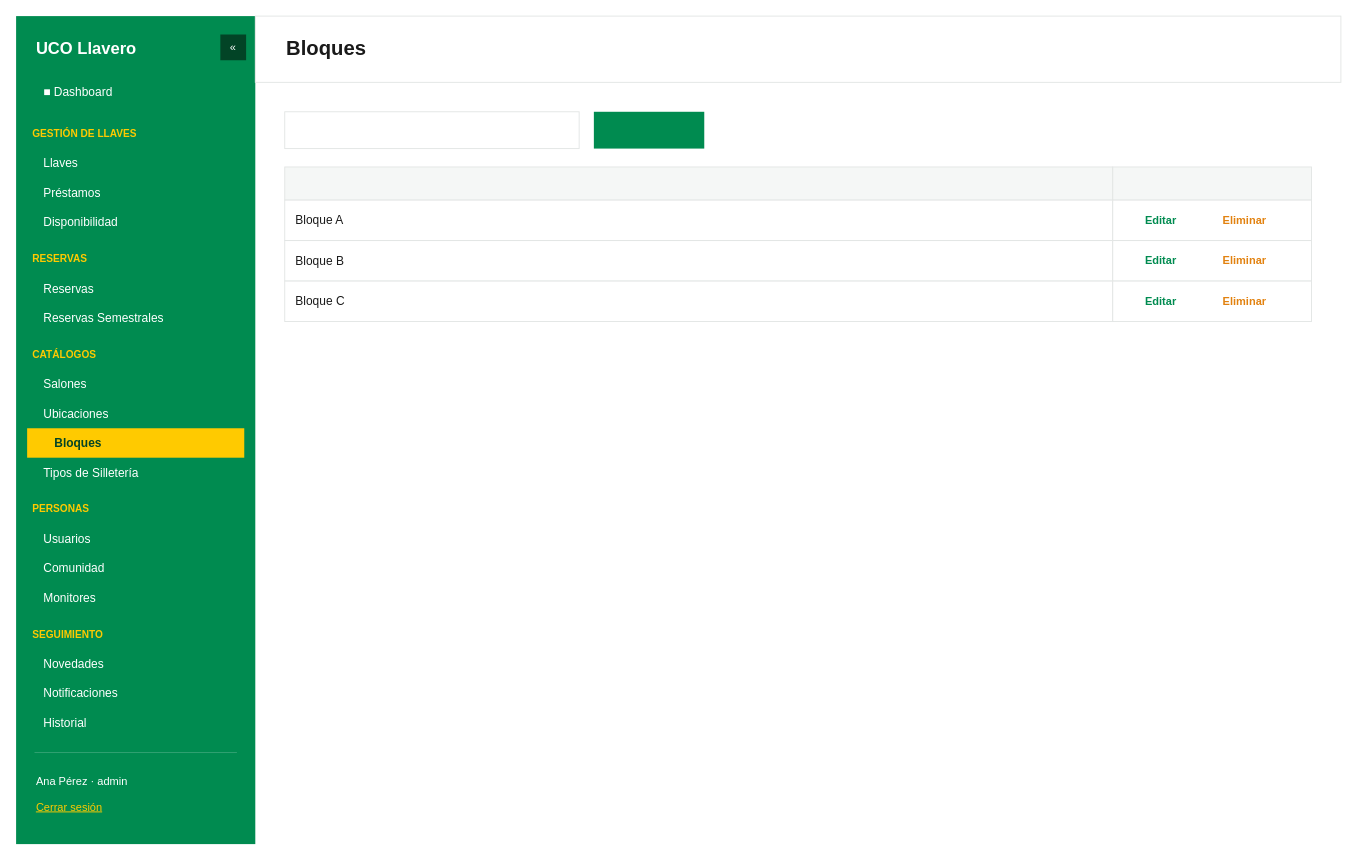
The diagram is 1357 pixels wide and 860 high, and some of its shapes have lost their labels. Here are the shapes that lost their labels. From the top down, the box of each, then its label:
(284, 111, 579, 149): Nombre del bloque nuevo
(593, 111, 704, 148): + Agregar
(284, 166, 1113, 200): Nombre
